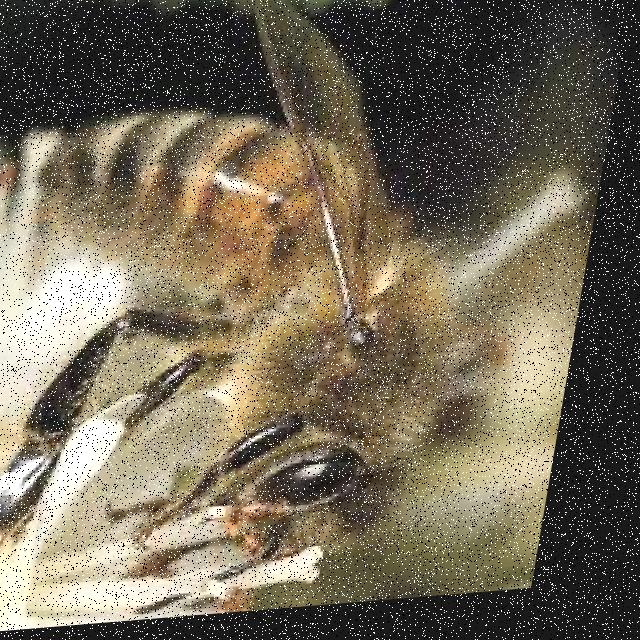Apis-mellifera-scutellata: (0, 0, 525, 636)
